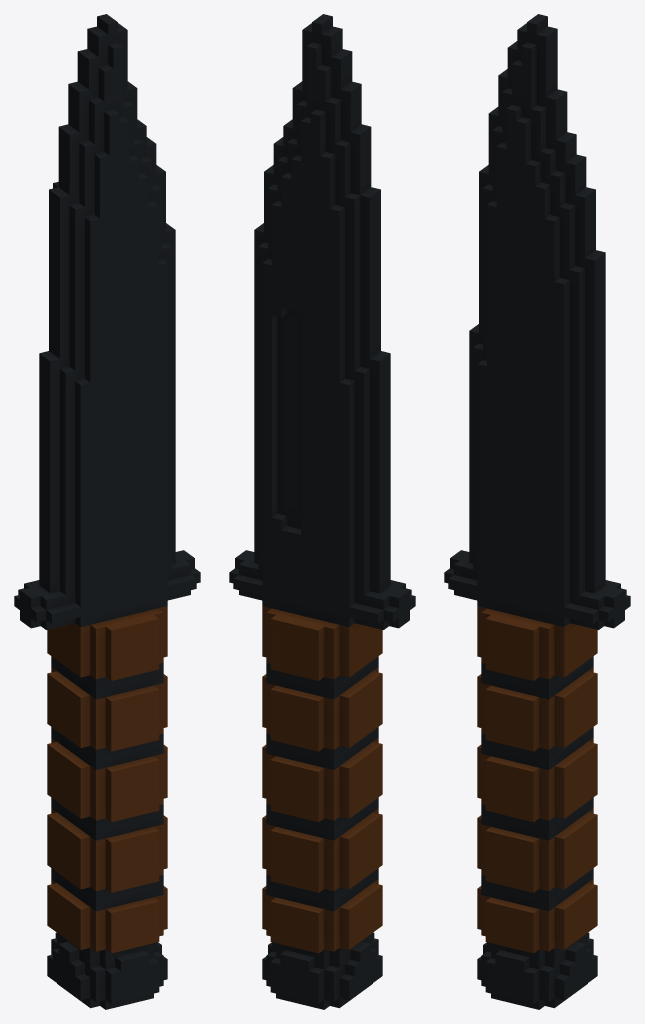
Rendered from CubikModel.obj.
The picture shows the model from 3 angles, left to right: view 1: azimuth 30°, elevation 25°; view 2: azimuth 150°, elevation 25°; view 3: azimuth 330°, elevation 25°; orthographic projection.
Parts seen in each view (by area): view 1: Chunk_12x14x11, Chunk_12x13x11, Chunk_12x15x11, Chunk_12x12x11, Chunk_12x16x11, Chunk_11x15x11, Chunk_11x14x11, Chunk_11x13x11, Chunk_11x16x11, Chunk_11x12x11, Chunk_12x11x11, Chunk_12x12x12 (+9 smaller); view 2: Chunk_12x14x12, Chunk_12x13x12, Chunk_12x15x12, Chunk_12x12x12, Chunk_12x16x12, Chunk_11x14x12, Chunk_11x15x12, Chunk_11x13x12, Chunk_11x16x12, Chunk_11x12x12, Chunk_12x11x12, Chunk_12x12x11 (+9 smaller); view 3: Chunk_11x15x11, Chunk_11x14x11, Chunk_11x13x11, Chunk_11x12x11, Chunk_11x16x11, Chunk_12x14x11, Chunk_12x15x11, Chunk_11x11x11, Chunk_12x13x11, Chunk_12x16x11, Chunk_12x12x11, Chunk_11x12x12 (+9 smaller).
Part boxes in pixels (x1,y1,x2,y2): Chunk_12x14x11: (45,426,119,596); Chunk_12x13x11: (25,587,130,759); Chunk_12x15x11: (45,264,119,435); Chunk_12x12x11: (64,744,130,923); Chunk_12x16x11: (54,97,119,271); Chunk_11x15x11: (119,240,175,425); Chunk_11x14x11: (119,401,175,587); Chunk_11x13x11: (119,554,200,752); Chunk_11x16x11: (113,84,175,264); Chunk_11x12x11: (125,743,167,918); Chunk_12x11x11: (64,908,130,1009); Chunk_12x12x12: (47,727,73,906); Chunk_12x14x12: (310,426,384,596); Chunk_12x13x12: (299,587,404,759); Chunk_12x15x12: (310,264,384,435); Chunk_12x12x12: (299,744,365,923); Chunk_12x16x12: (310,97,375,271); Chunk_11x14x12: (254,401,310,587); Chunk_11x15x12: (254,240,310,425); Chunk_11x13x12: (229,554,310,752); Chunk_11x16x12: (254,84,316,264); Chunk_11x12x12: (262,743,304,918); Chunk_12x11x12: (299,908,365,1009); Chunk_12x12x11: (356,727,382,906); Chunk_11x15x11: (516,262,599,435); Chunk_11x14x11: (516,424,599,596); Chunk_11x13x11: (505,585,619,759); Chunk_11x12x11: (505,744,580,923); Chunk_11x16x11: (516,93,599,271); Chunk_12x14x11: (469,401,515,584); Chunk_12x15x11: (469,242,515,423); Chunk_11x11x11: (505,908,580,1009); Chunk_12x13x11: (444,554,515,750); Chunk_12x16x11: (479,86,521,262); Chunk_12x12x11: (477,743,510,915); Chunk_11x12x12: (571,727,597,906).
Bounding box in the file's own units: 2.12 × 12 × 1.25.
